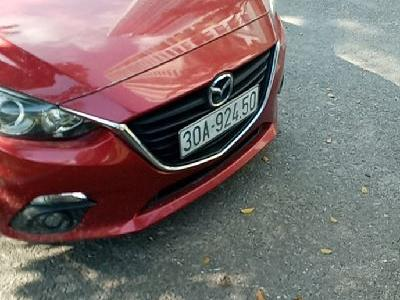lisence: (177, 85, 260, 160)
